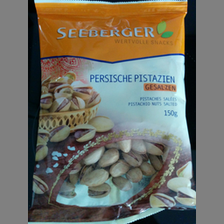nuts: (30, 1, 195, 223)
